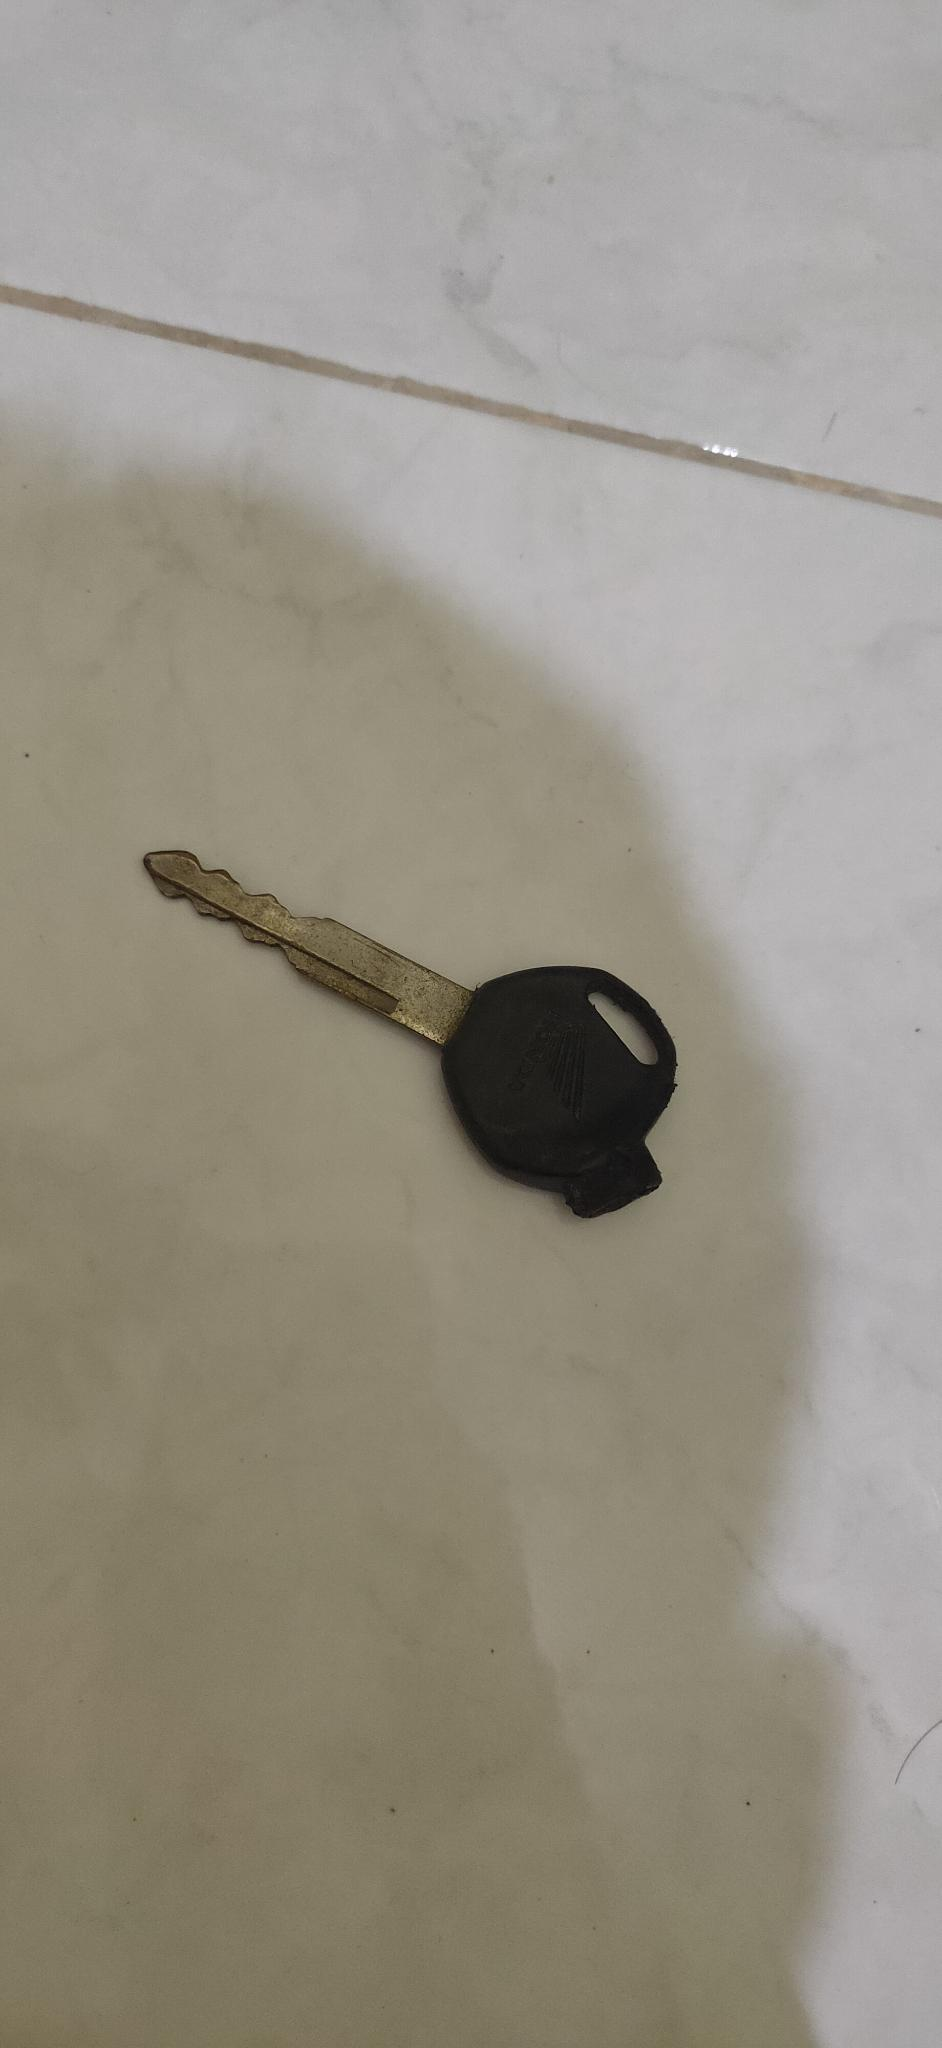keys: (120, 795, 702, 1243)
